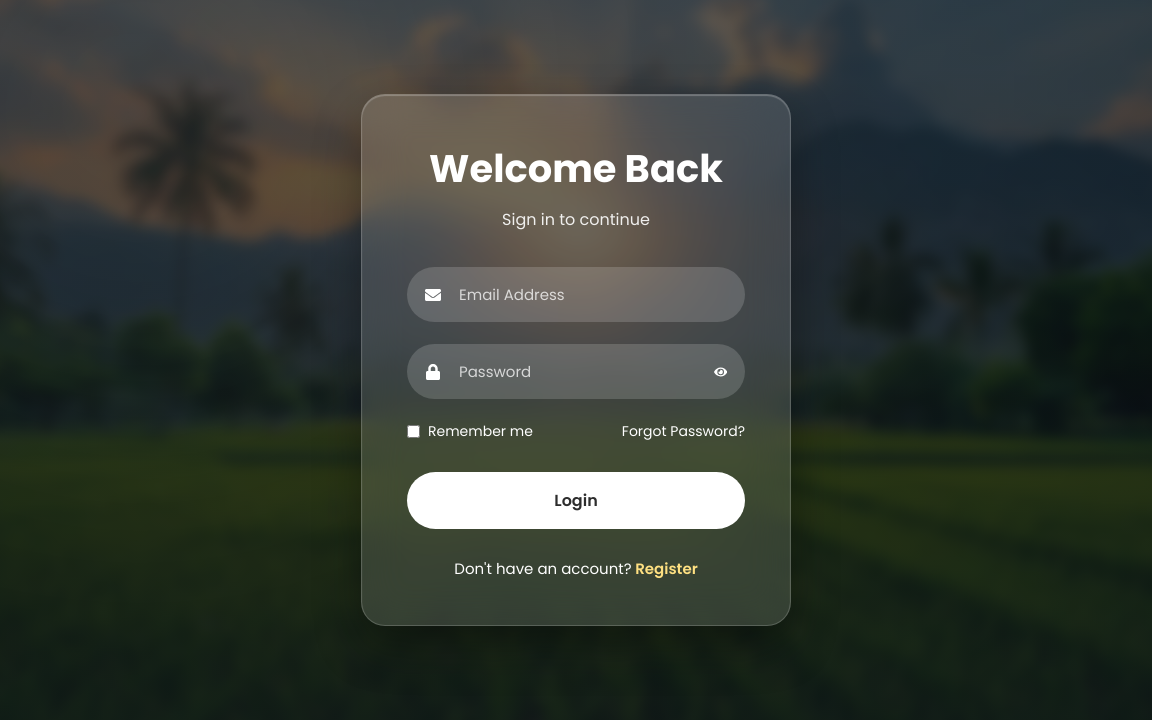
Test: Login Component › shows validation message when fields are empty
Click the button "Login": (576, 500) left=407, top=472, right=745, bottom=529
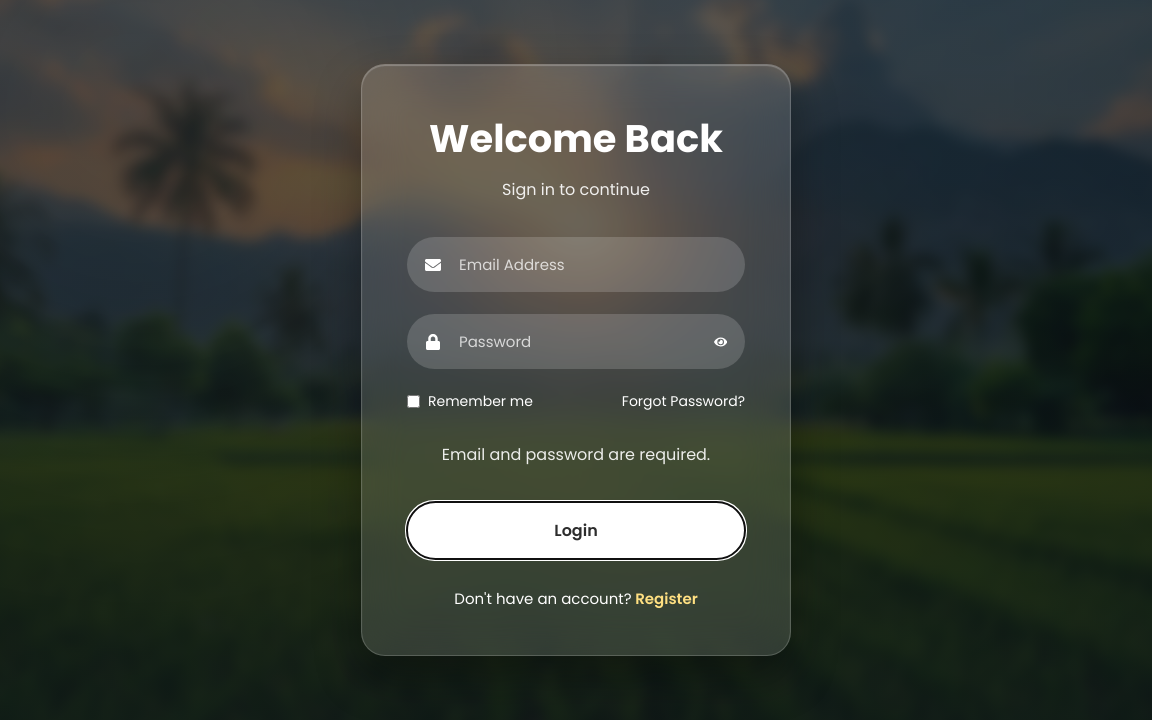
Expected: the text "Email and password are required." is shown, left=442, top=443, right=710, bottom=466
